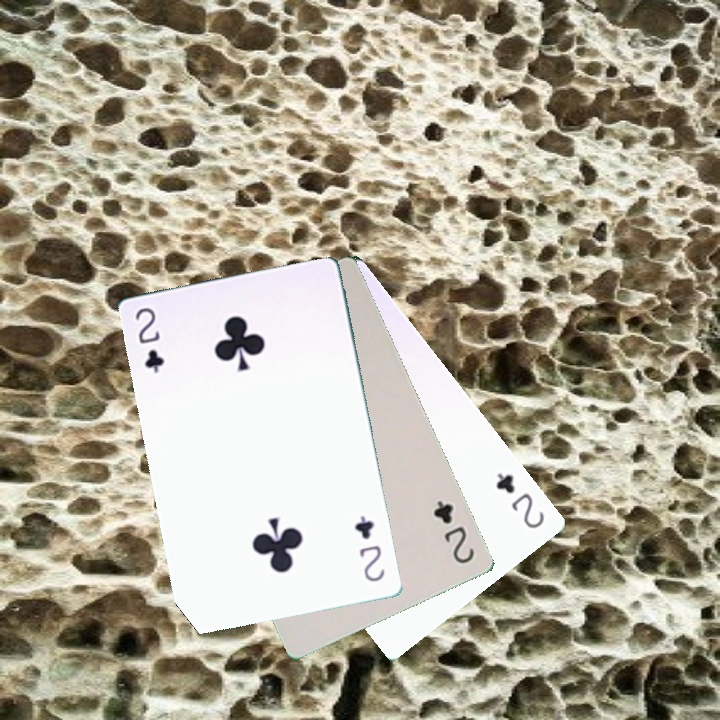2c: (491, 468, 547, 532), (429, 496, 477, 567), (350, 512, 387, 584), (131, 303, 167, 375)
